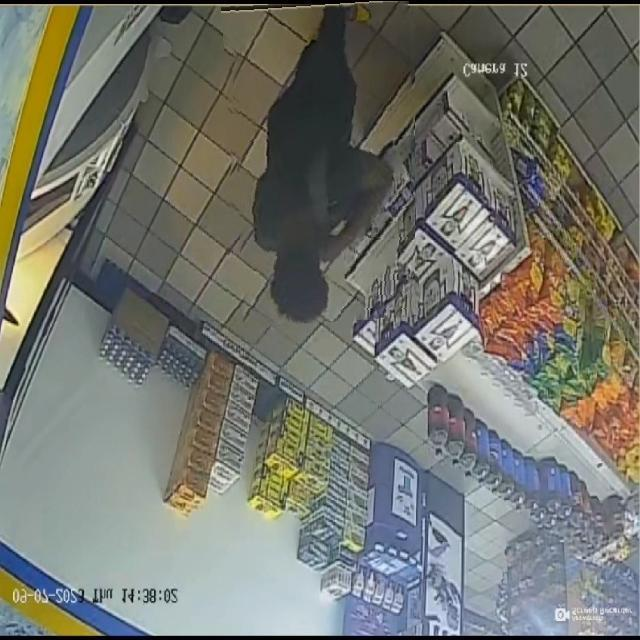normal: (226, 0, 415, 325)
